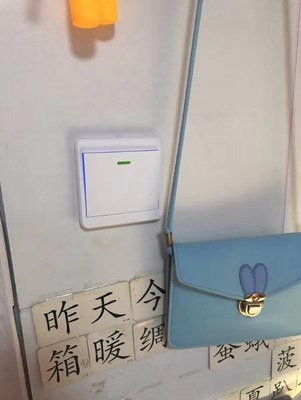switch: (78, 147, 161, 218)
